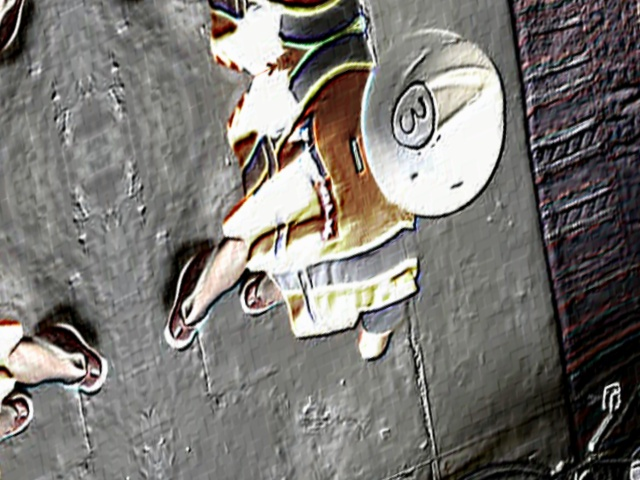three: (384, 75, 439, 160)
